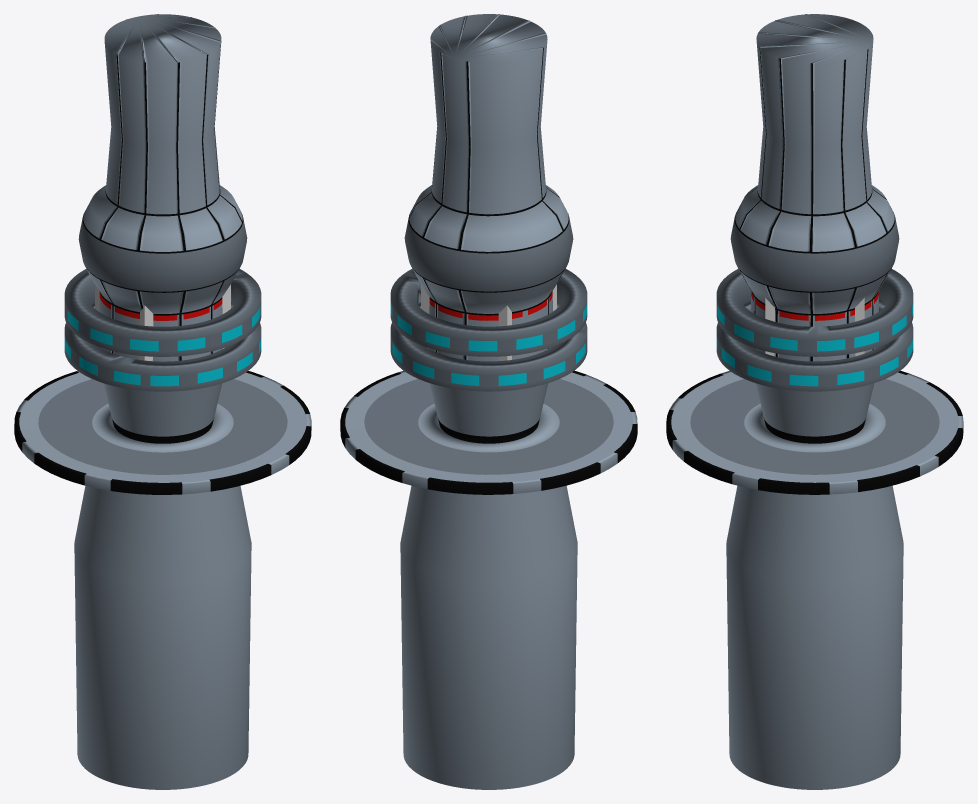
Rendered from Reactor.fbx.
The picture shows the model from 3 angles, left to right: view 1: azimuth 30°, elevation 25°; view 2: azimuth 150°, elevation 25°; view 3: azimuth 270°, elevation 25°; orthographic projection.
Visible parts, largest first — view 1: Cylinder.001, Cylinder.003, Cylinder.004, Cube; view 2: Cylinder.001, Cylinder.003, Cylinder.004, Cube; view 3: Cylinder.001, Cylinder.003, Cylinder.004.
Boxes of the visible parts, x1,y1,x2,y2 form: Cylinder.001: (14,14,311,789); Cylinder.003: (64,269,261,356); Cylinder.004: (64,302,261,391); Cube: (95,284,230,361); Cylinder.001: (340,14,637,789); Cylinder.003: (390,268,587,356); Cylinder.004: (390,302,587,391); Cube: (421,284,556,360); Cylinder.001: (666,14,963,789); Cylinder.003: (716,269,913,356); Cylinder.004: (716,298,913,391).
Size of the model in its own units: 598 by 1587 by 598.
